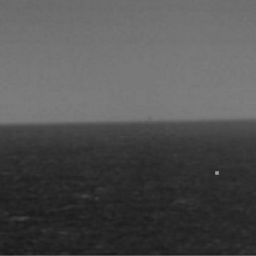Target: (213, 168, 220, 176)
